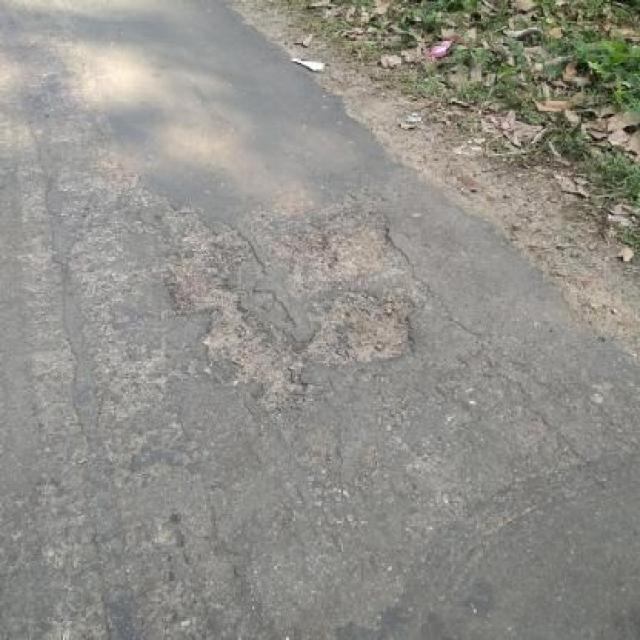Pothole: (154, 198, 433, 414)
